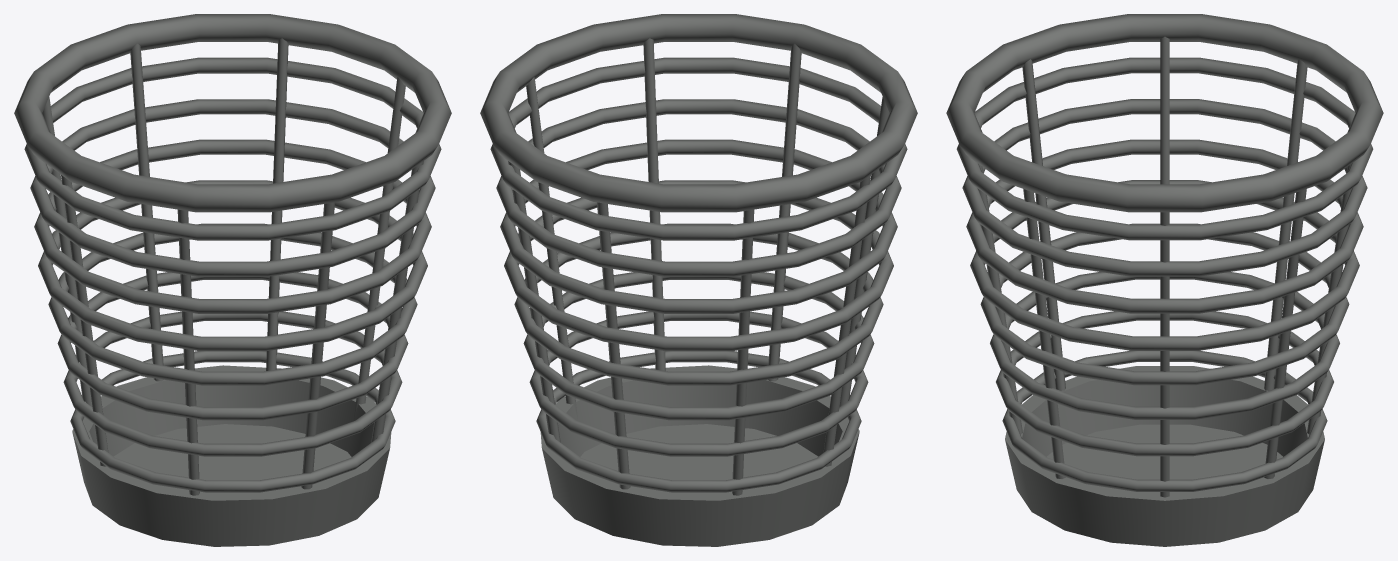
File: Cocina_BotePapelera_02.fbx
3 views of the same model, side by side, from view 1: azimuth 30°, elevation 25°; view 2: azimuth 150°, elevation 25°; view 3: azimuth 270°, elevation 25° (orthographic).
Visible parts, largest first — view 1: bote de basura chico; view 2: bote de basura chico; view 3: bote de basura chico.
Boxes of the visible parts, left/top/right/bottom form: bote de basura chico: left=14, top=14, right=451, bottom=546; bote de basura chico: left=480, top=14, right=917, bottom=546; bote de basura chico: left=946, top=14, right=1383, bottom=546.
Bounding box in the file's own units: 30.14 × 29.5 × 30.61.
Materials: 1 (1 with a texture image).
